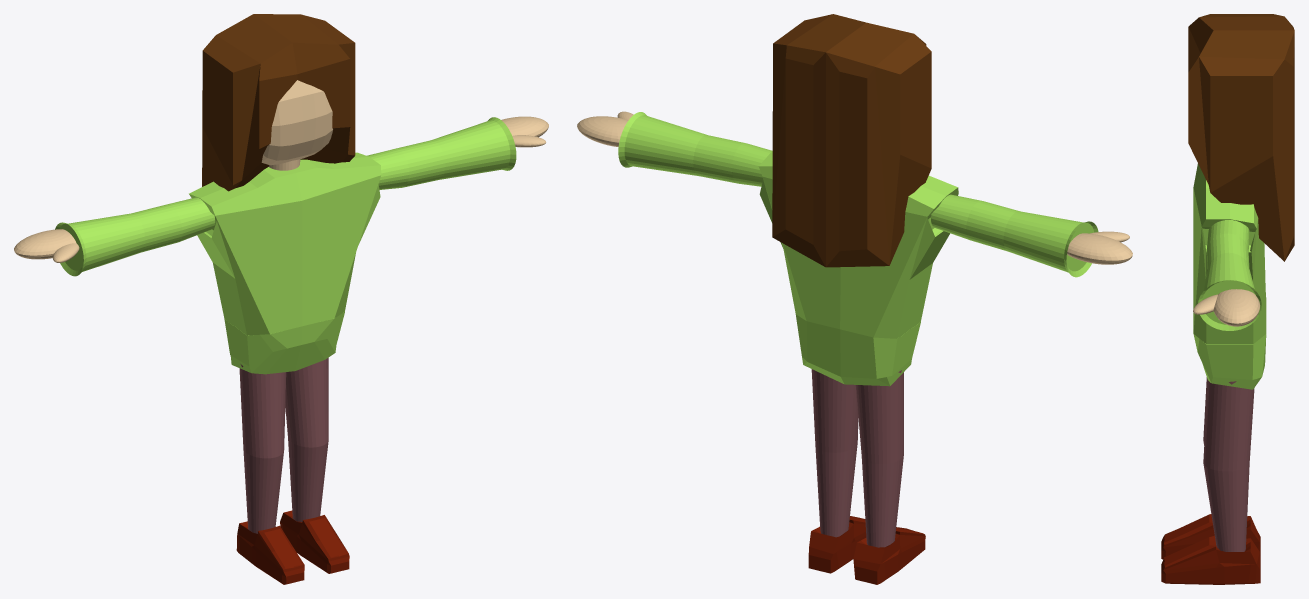
File: La Trombonette_Character 3.fbx
3 views of the same model, side by side, from view 1: azimuth 30°, elevation 25°; view 2: azimuth 150°, elevation 25°; view 3: azimuth 270°, elevation 25° (orthographic). The views are drawn at different scales.
Visible parts, largest first — view 1: Torse, Cube.001, Jambe, Head.001, Sphere; view 2: Cube.001, Torse, Jambe, Sphere; view 3: Cube.001, Jambe, Torse, Sphere.
Part boxes in pixels (x1=…): Torse: x1=55, y1=117, x2=516, y2=374; Cube.001: x1=202, y1=14, x2=355, y2=191; Jambe: x1=236, y1=357, x2=349, y2=584; Head.001: x1=261, y1=80, x2=332, y2=165; Sphere: x1=14, y1=116, x2=548, y2=262; Cube.001: x1=772, y1=14, x2=931, y2=267; Torse: x1=618, y1=112, x2=1098, y2=386; Jambe: x1=808, y1=369, x2=925, y2=584; Sphere: x1=577, y1=111, x2=1132, y2=264; Cube.001: x1=1188, y1=14, x2=1294, y2=261; Jambe: x1=1161, y1=377, x2=1260, y2=584; Torse: x1=1193, y1=163, x2=1266, y2=389; Sphere: x1=1193, y1=289, x2=1259, y2=326.
Size of the model in its own units: 1212 by 1128 by 254.
